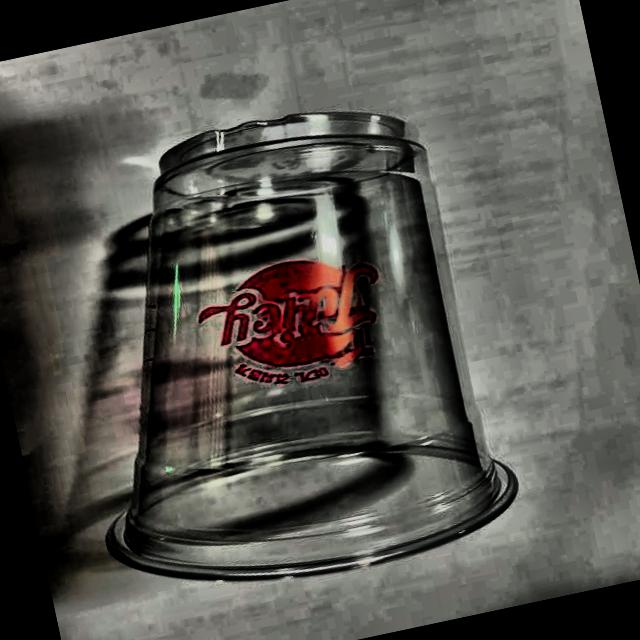plastic cup: (18, 78, 532, 625)
